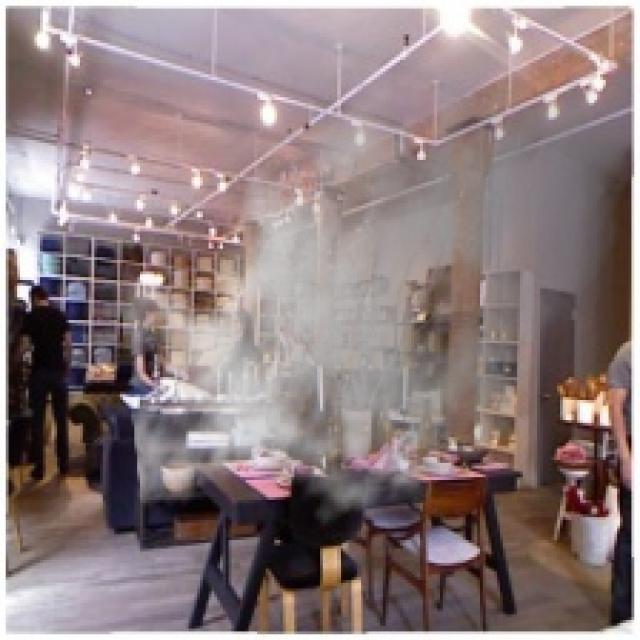Smoke: (117, 17, 634, 543)
